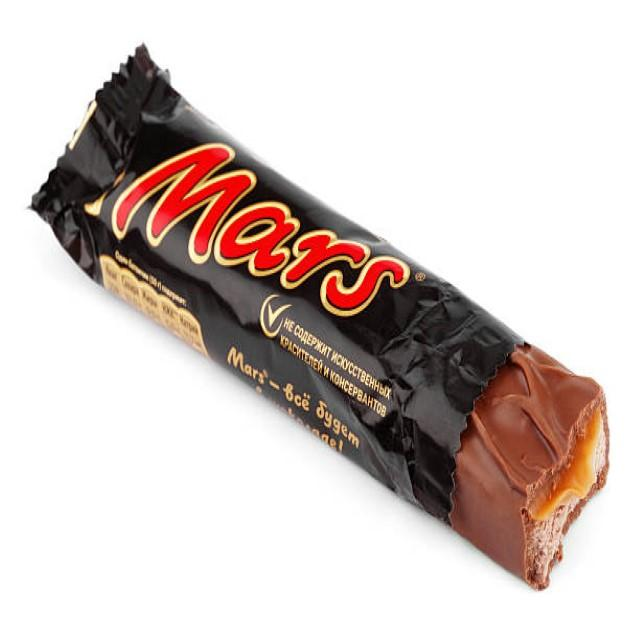mars_chocolate: (85, 87, 593, 520)
